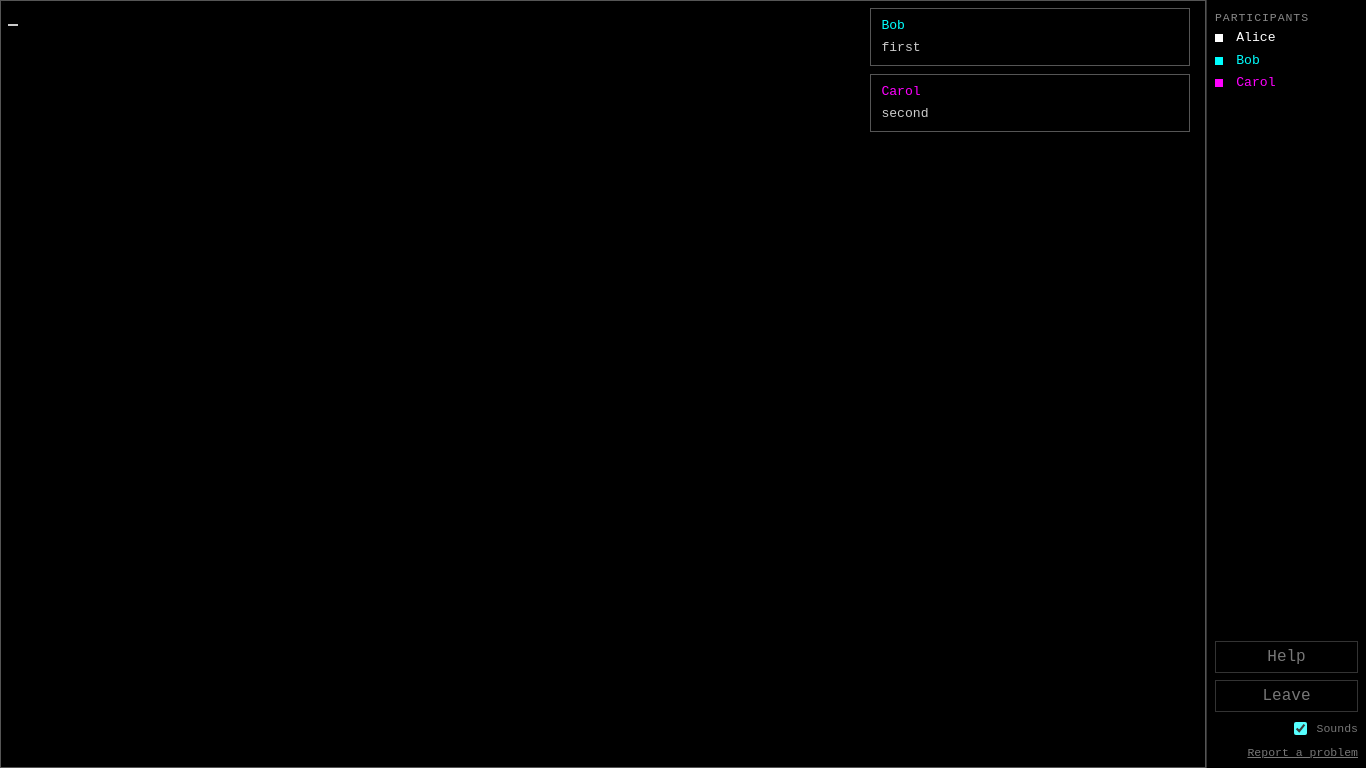
Receiving a private message › two messages stack in arrival order; click removes one, Escape removes the oldest
The width and height of the screenshot is (1366, 768).
Check: the text "Carol" below "Alice" is shown, box [1236,75,1276,90]
Click the text "second" at (905, 113), box [881,106,929,120]
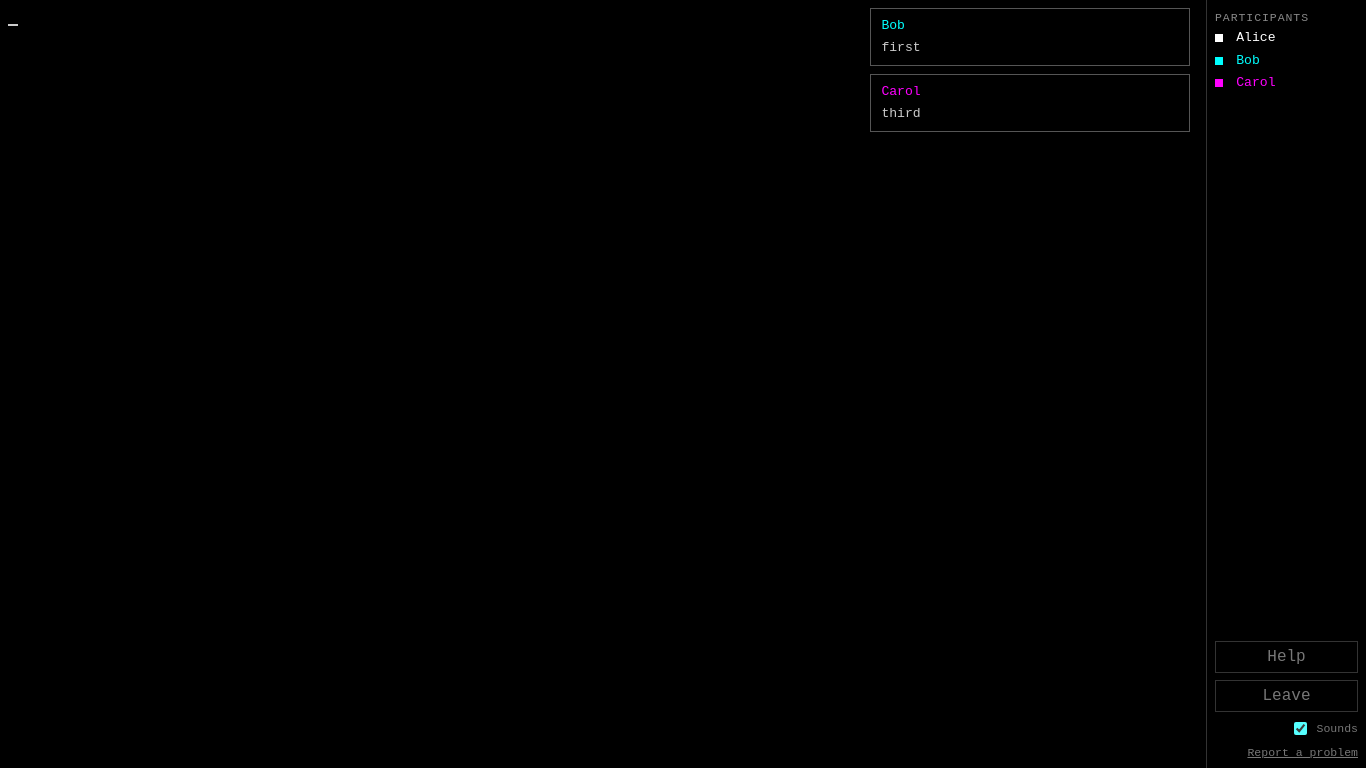
Check: the button "second" is gone
Check: the text "third" is shown, box [881,106,921,120]
Click the element named "Shared chat area" at (13, 25), box [2,2,18,26]
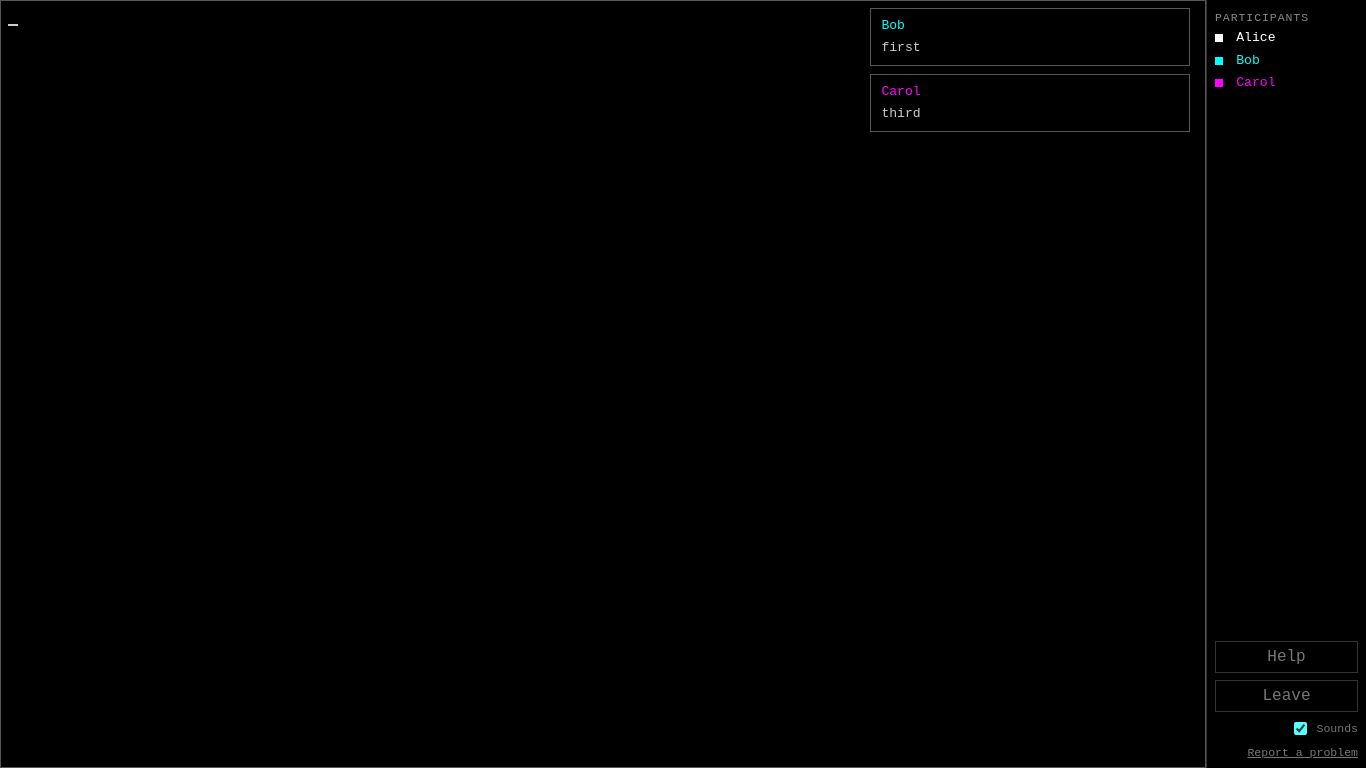
Press Escape
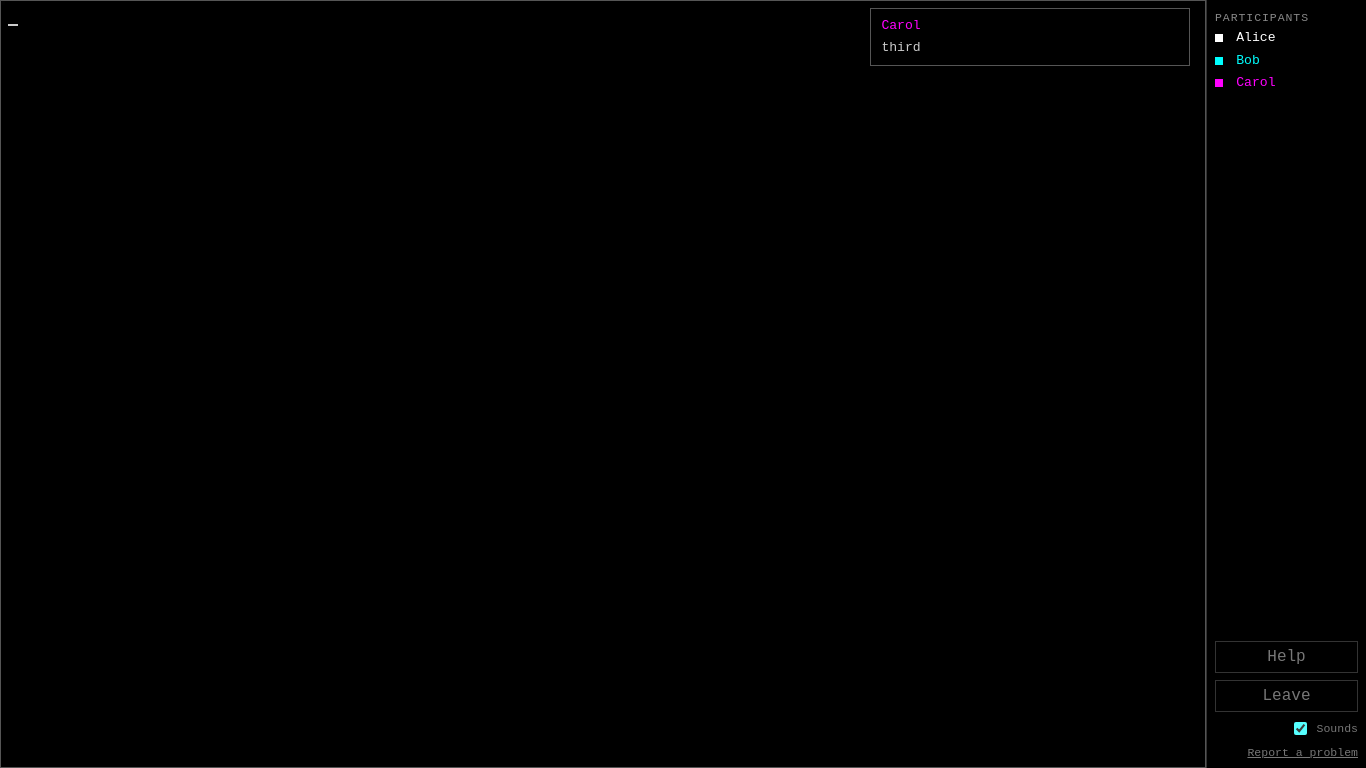
Check: the text "third" is shown, box [881,40,921,55]
Check: the button "first" is gone
